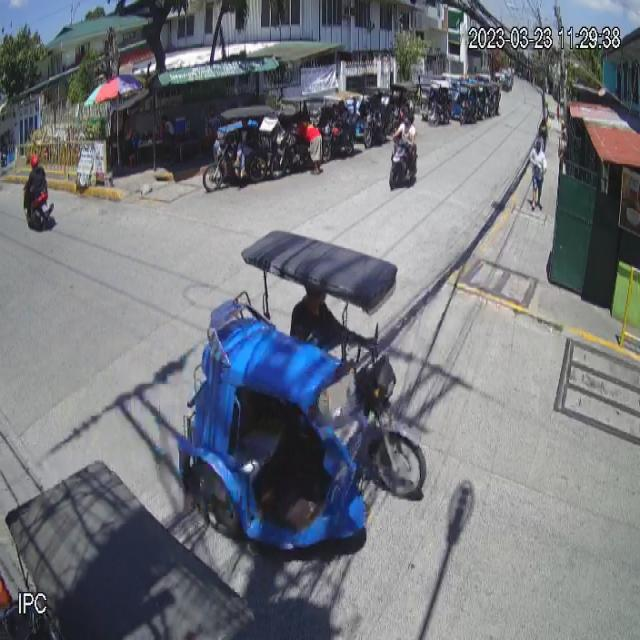Motorcycle: (388, 131, 419, 192), (22, 177, 55, 234)
Tricycle: (179, 229, 428, 558)
